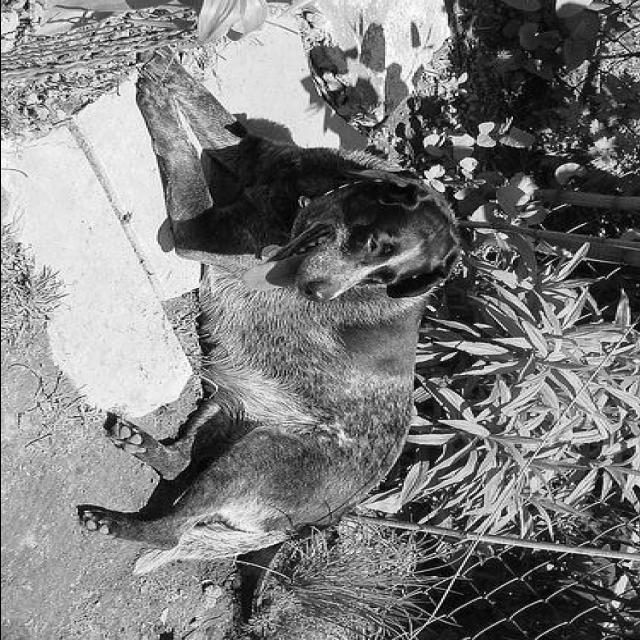laying down: (70, 34, 474, 578)
